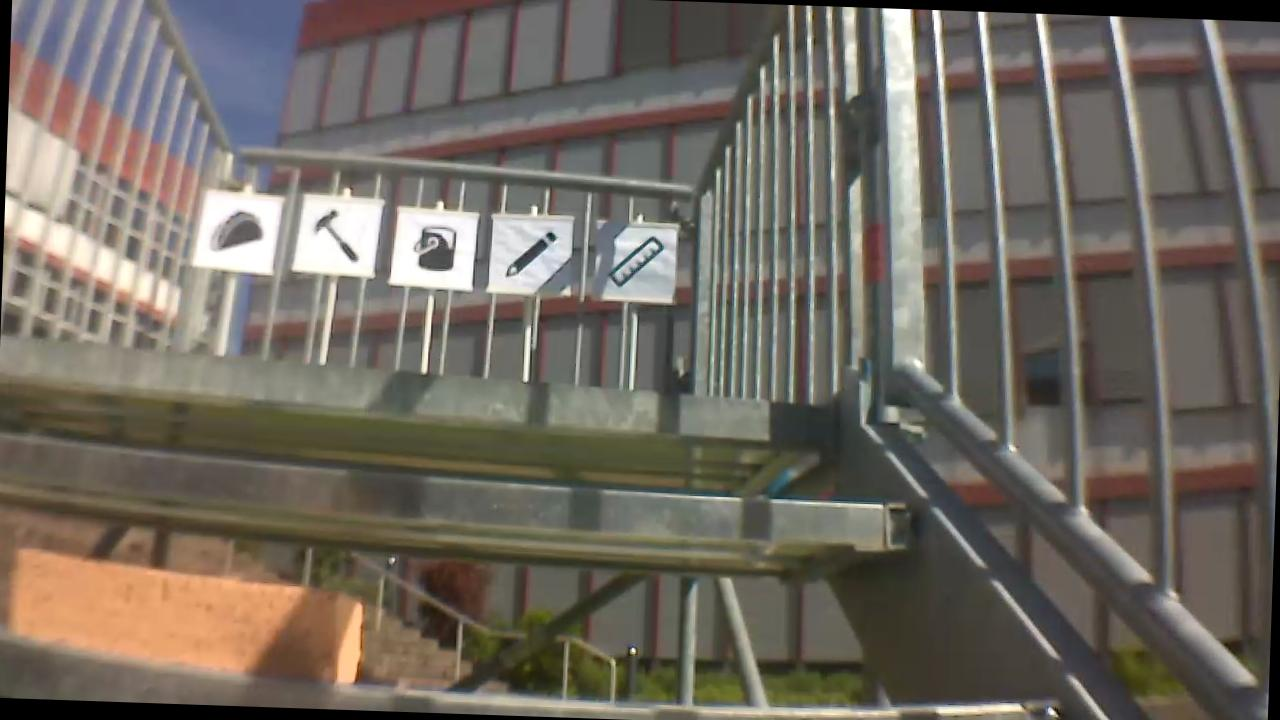bucket: (406, 218, 463, 273)
hammer: (302, 203, 363, 265)
ruler: (606, 235, 664, 289)
taco: (203, 201, 267, 252)
